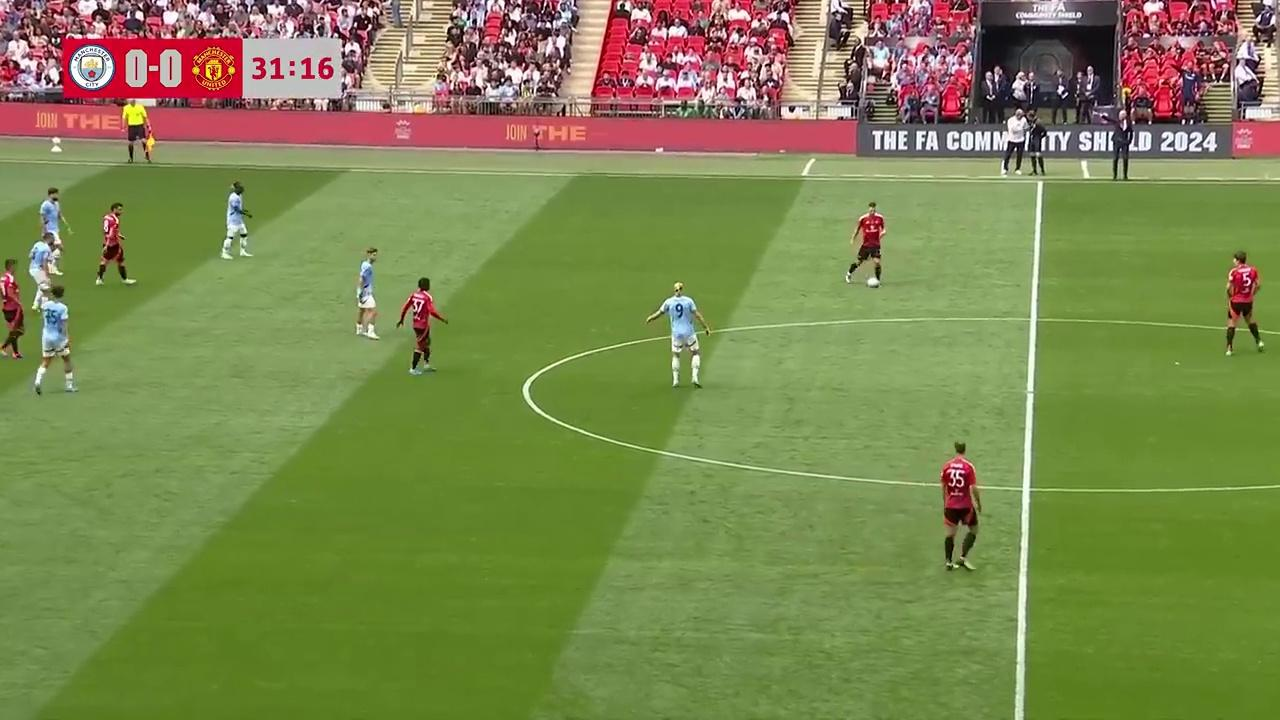ball: (865, 274, 878, 289)
player: (939, 441, 983, 573), (652, 282, 703, 387), (30, 286, 78, 396), (400, 277, 447, 373), (1224, 251, 1264, 356), (94, 203, 135, 287), (845, 201, 885, 287), (220, 181, 252, 259), (0, 261, 24, 360), (354, 247, 379, 338), (27, 234, 57, 307), (39, 186, 70, 250), (126, 103, 155, 164)
referee: (126, 99, 154, 163)
